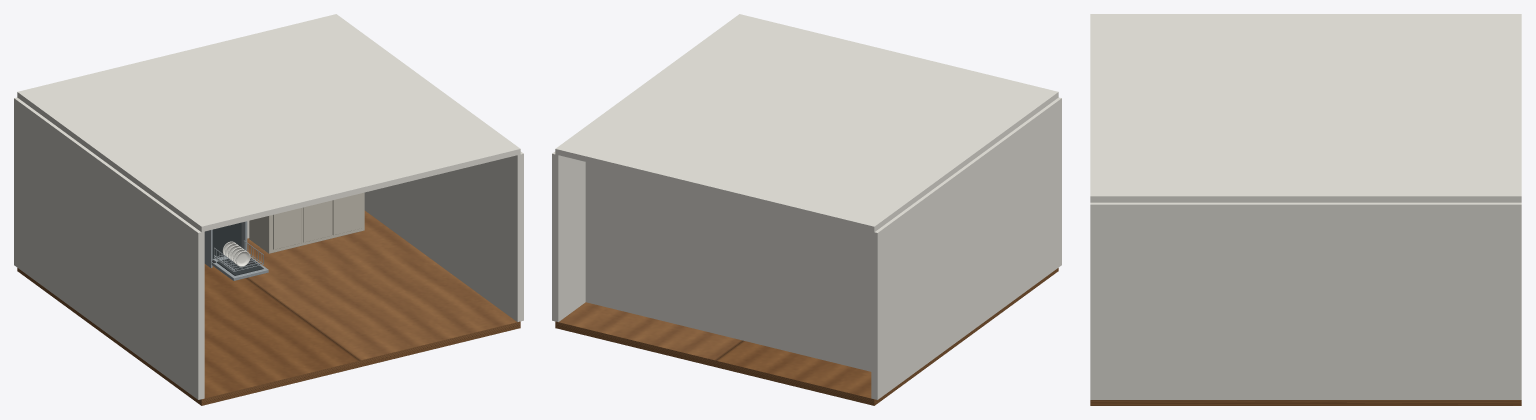
The model's file is kitchen-refined.glb.
3 renders of one model, left to right at view 1: azimuth 30°, elevation 25°; view 2: azimuth 150°, elevation 25°; view 3: azimuth 270°, elevation 25°, orthographic. The views are drawn at different scales.
Parts seen in each view (by area): view 1: Room_static__Warm_plaster, Room_static__Warm_oak, Room_static__Warm_cream_cabinetry, Dishwasher_static__Dark_appliance_interior, Dishwasher_static__Brushed_stainless; view 2: Room_static__Warm_plaster, Room_static__Warm_oak; view 3: Room_static__Warm_plaster, Room_static__Warm_oak.
Part boxes in pixels (left/top/right/bottom): Room_static__Warm_plaster: left=14, top=14, right=523, bottom=399; Room_static__Warm_oak: left=17, top=210, right=520, bottom=405; Room_static__Warm_cream_cabinetry: left=249, top=192, right=364, bottom=253; Dishwasher_static__Dark_appliance_interior: left=212, top=222, right=263, bottom=275; Dishwasher_static__Brushed_stainless: left=204, top=221, right=268, bottom=280; Room_static__Warm_plaster: left=552, top=14, right=1061, bottom=399; Room_static__Warm_oak: left=555, top=268, right=1058, bottom=405; Room_static__Warm_plaster: left=1090, top=14, right=1521, bottom=399; Room_static__Warm_oak: left=1090, top=400, right=1521, bottom=405.
Size of the model in its own units: 6.12 by 3.22 by 6.
11 materials, 4 textured.
